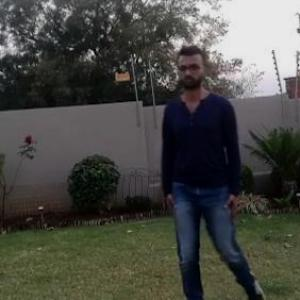follow: (156, 47, 240, 299)
